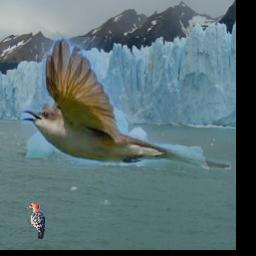Cuckoo: (22, 38, 232, 170)
Woodpecker: (25, 203, 46, 240)
